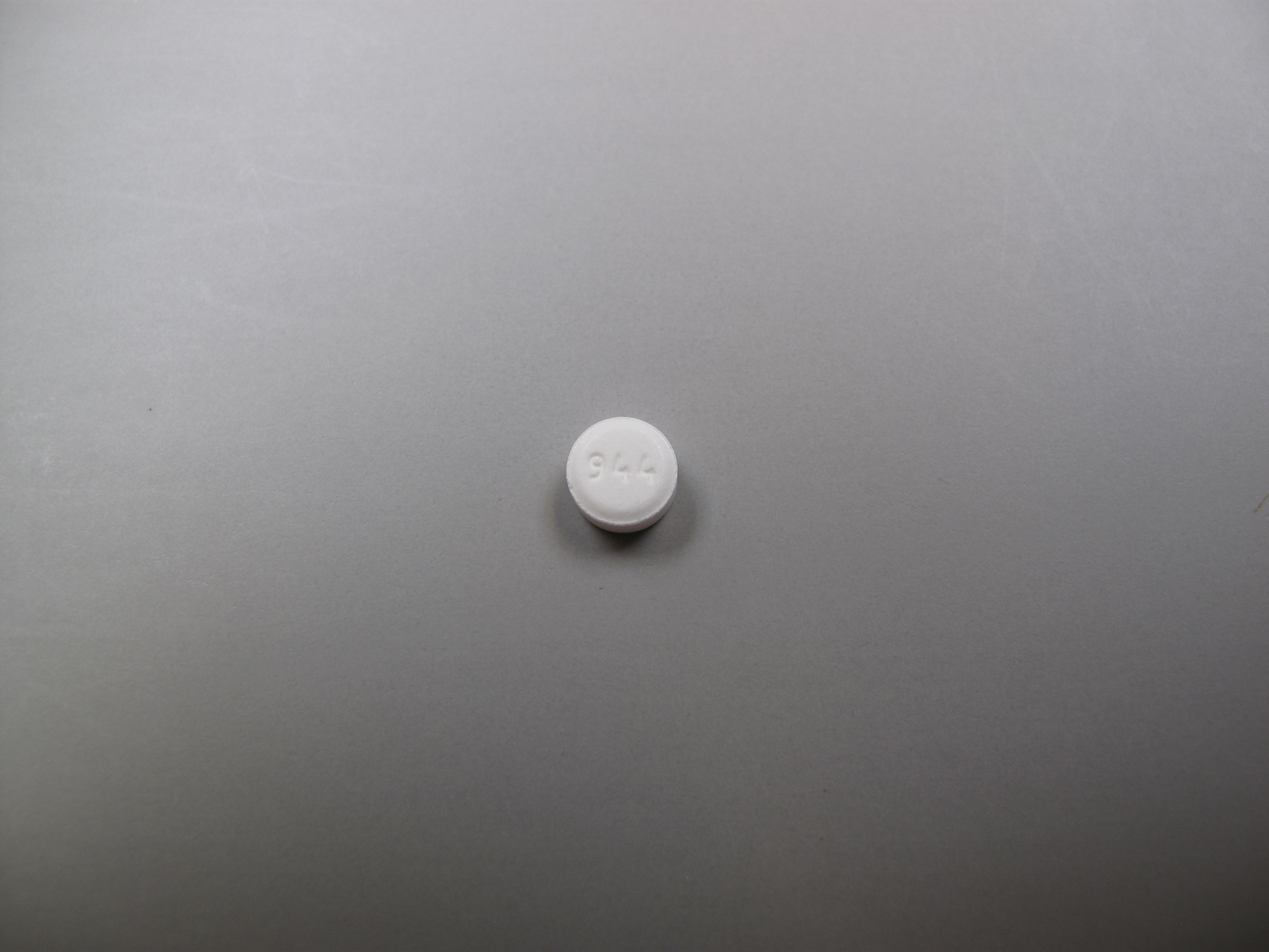Pill: (559, 408, 689, 546)
